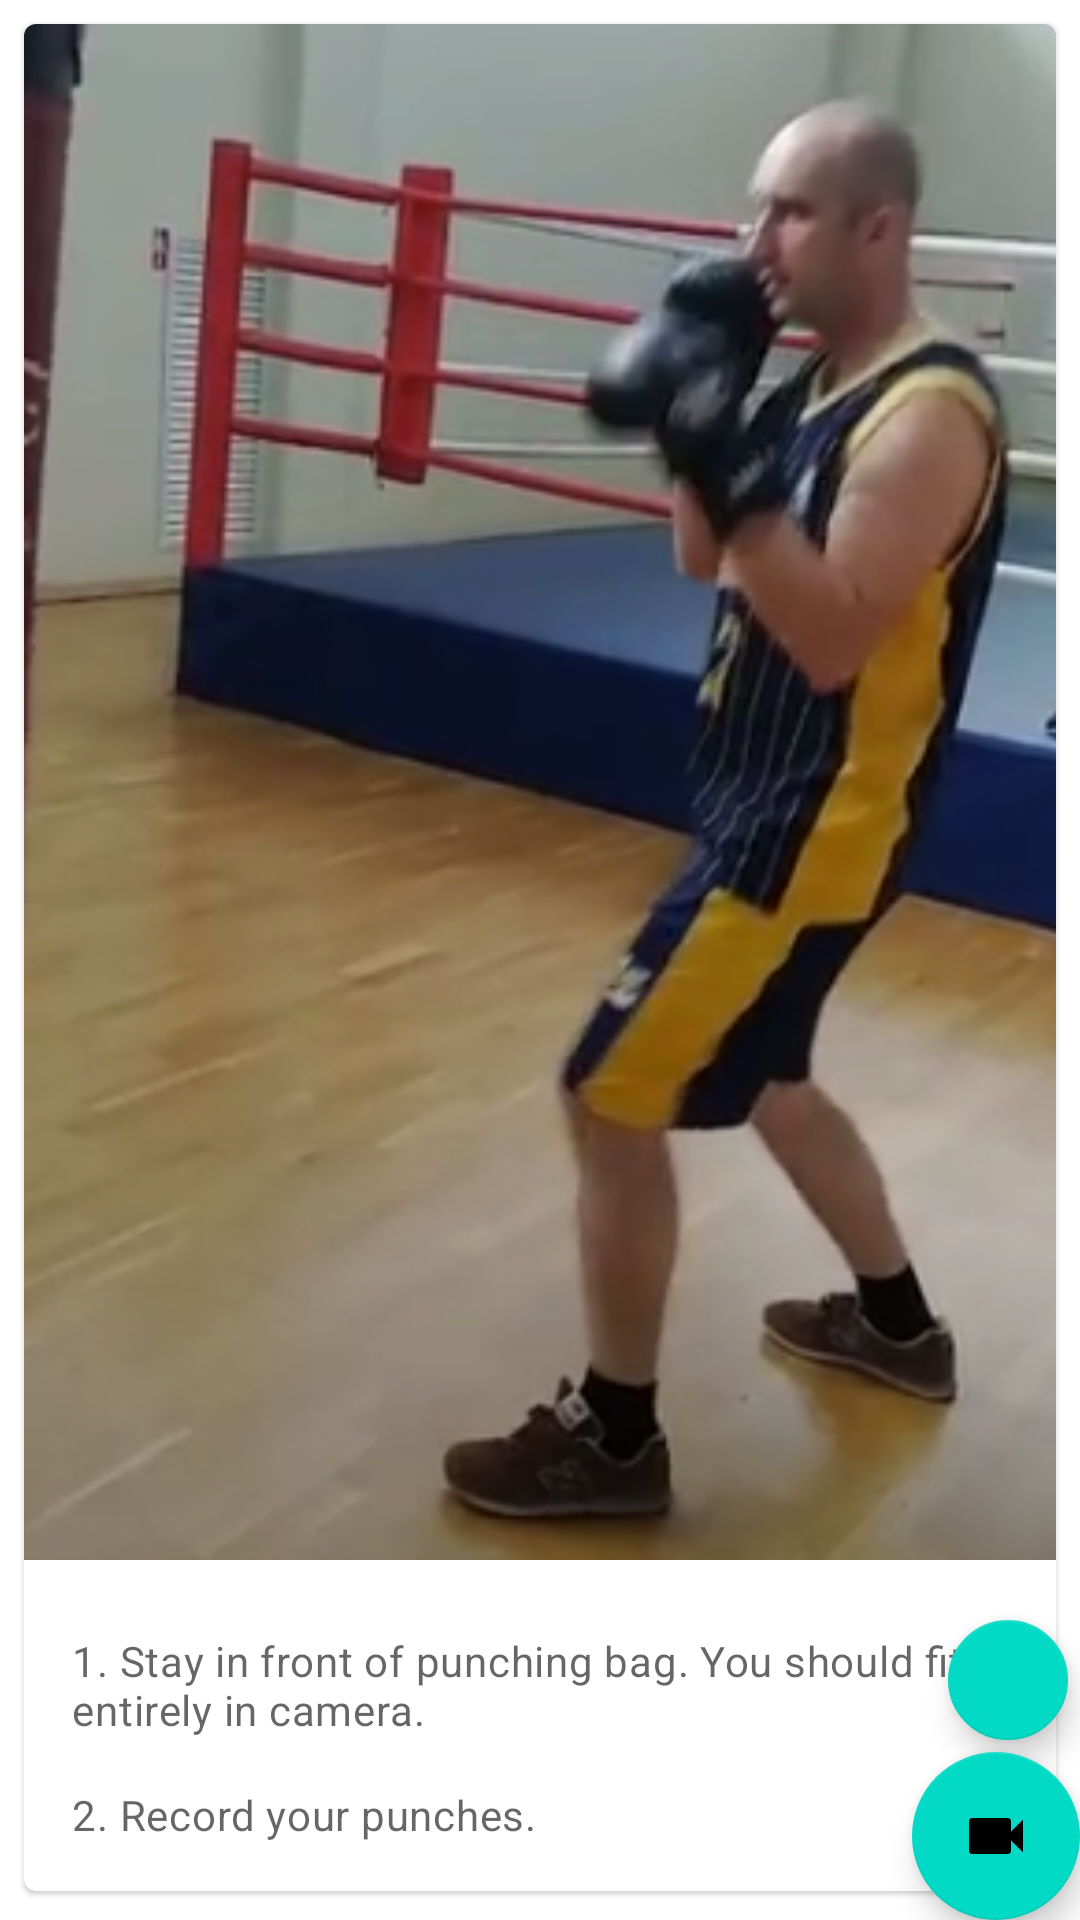

Where icons sit on this 1080×1920 app screen, as bbox=(x1, y1, x2, y2):
Record Video: bbox=(912, 1752, 1080, 1920)
